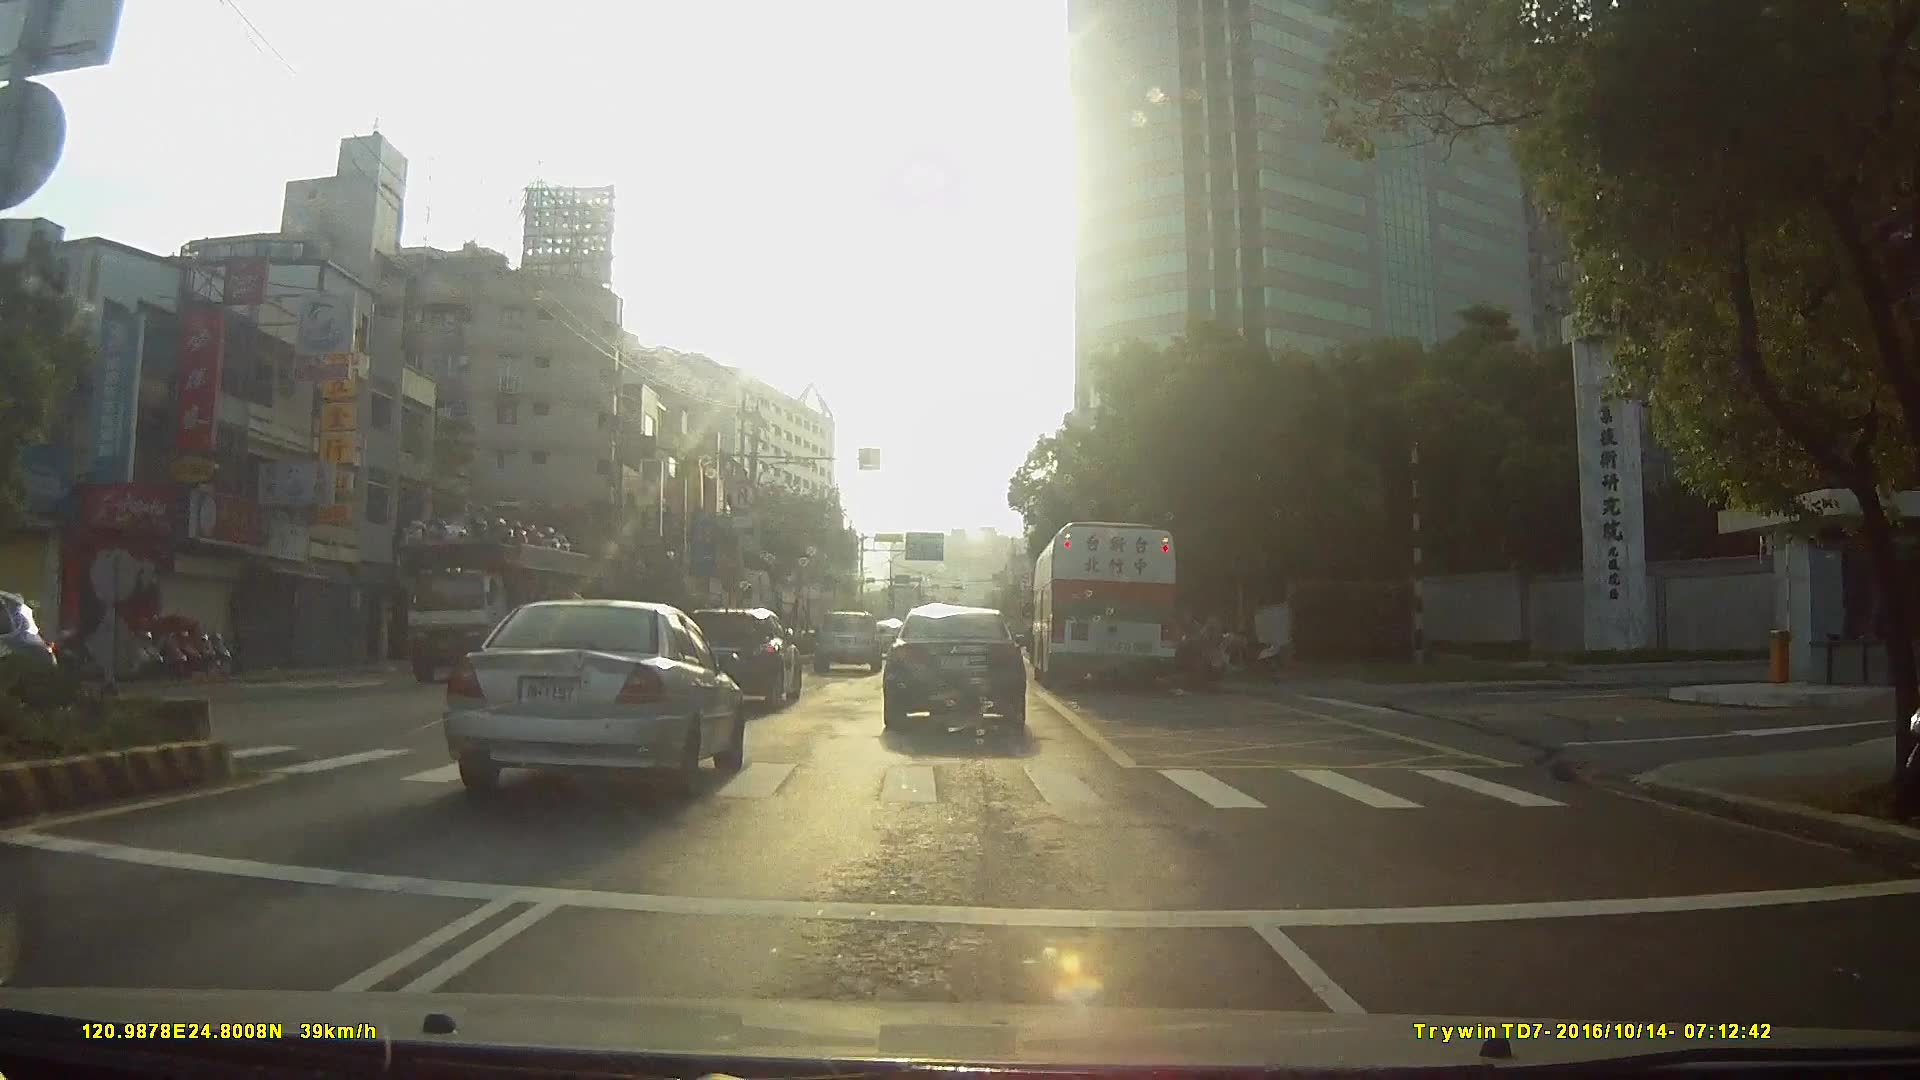vehicle: (433, 596, 742, 802), (398, 497, 609, 692), (1030, 516, 1179, 691), (880, 600, 1025, 732), (676, 607, 800, 709), (812, 608, 884, 673)
